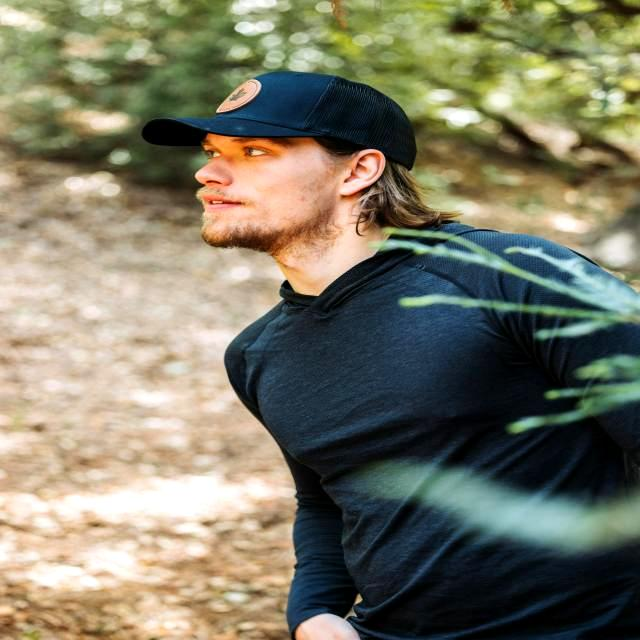no_hard_hat: (142, 72, 416, 169)
person: (175, 72, 640, 640)
